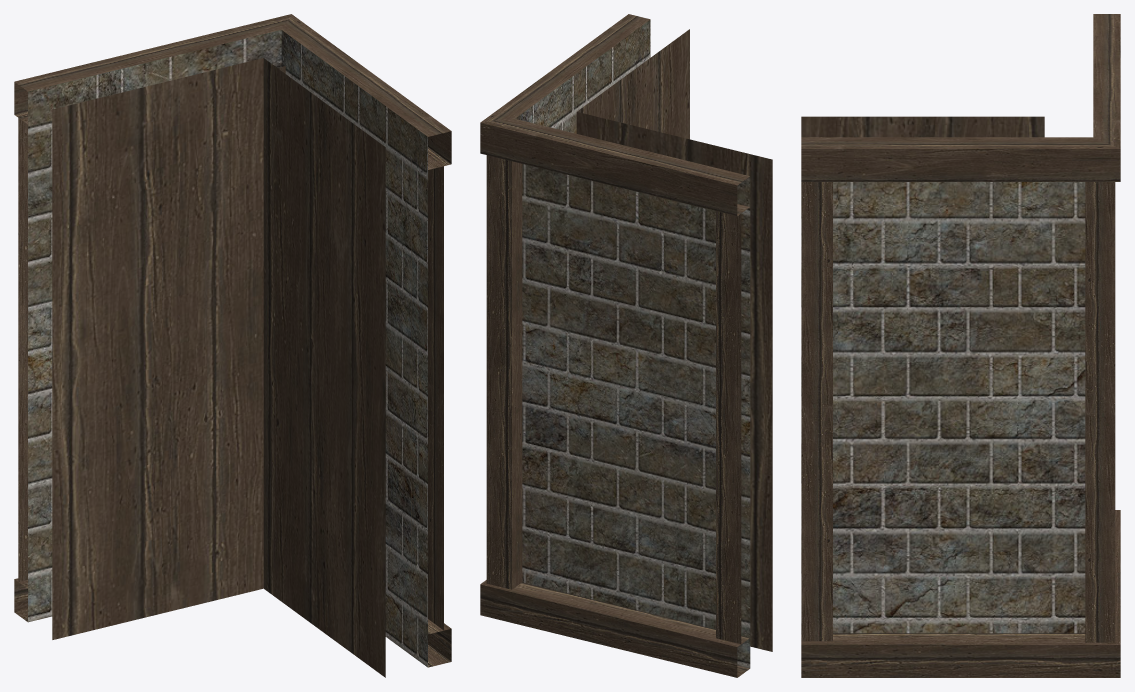
Rendered from ARC1010214.fbx.
3 views of the same model, side by side, from view 1: azimuth 30°, elevation 25°; view 2: azimuth 150°, elevation 25°; view 3: azimuth 270°, elevation 25° (orthographic). The views are drawn at different scales.
Visible parts, largest first — view 1: smARC1010214; view 2: smARC1010214; view 3: smARC1010214.
Part boxes in pixels (box(x1,y1,x2,y2)): smARC1010214: box(14, 14, 451, 677); smARC1010214: box(480, 14, 772, 677); smARC1010214: box(801, 14, 1120, 677).
Size of the model in its own units: 147 by 268 by 147.
Materials: 1 (1 with a texture image).
